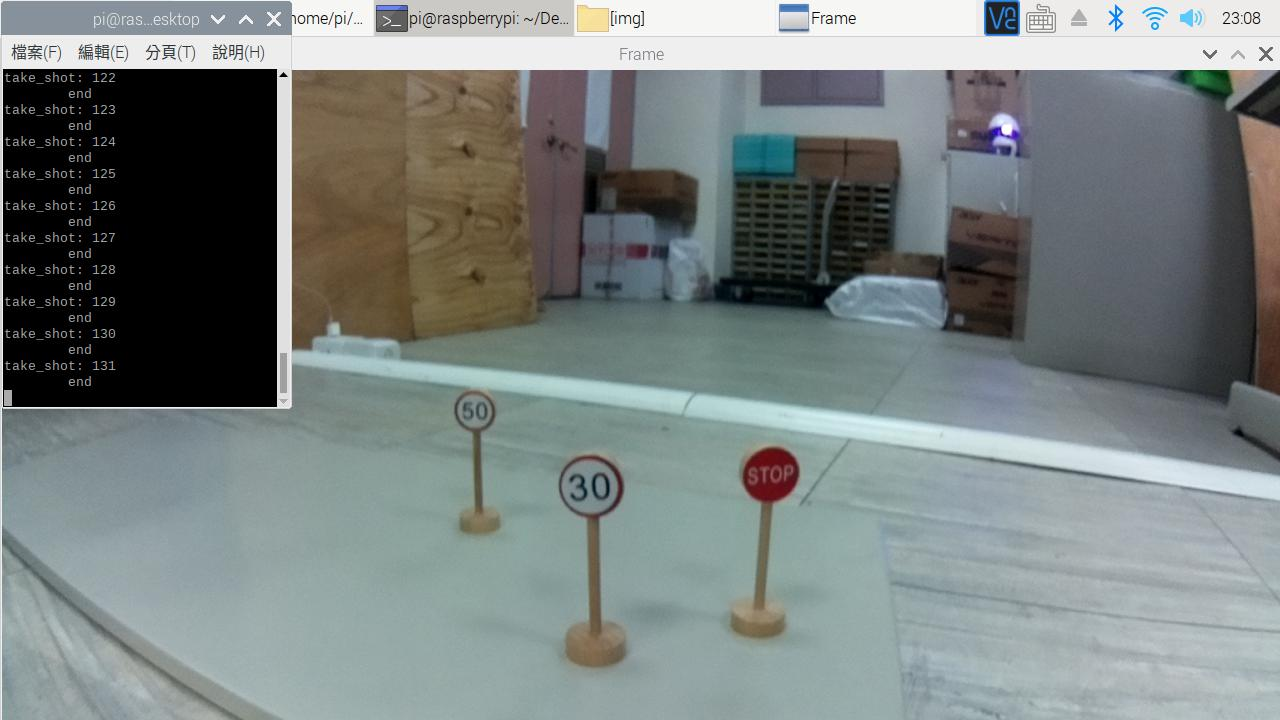Speed30: (546, 447, 634, 538)
Speed50: (452, 386, 511, 446)
Stop: (731, 444, 816, 511)
